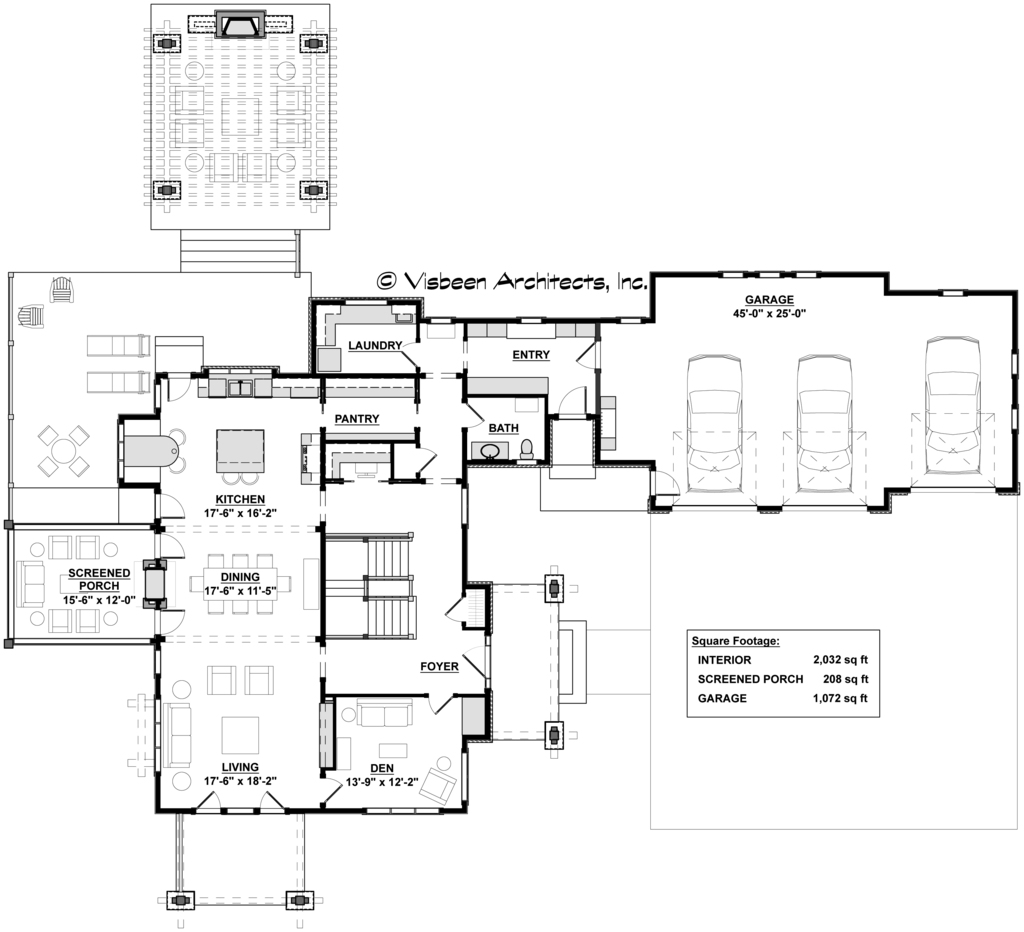dining_table: (175, 555, 299, 622)
door: (459, 640, 501, 687), (153, 484, 195, 523), (644, 462, 685, 501), (149, 529, 189, 561), (156, 604, 192, 636), (439, 594, 473, 627), (398, 337, 433, 369), (575, 336, 610, 368), (415, 440, 442, 480), (560, 387, 597, 416), (456, 397, 484, 435), (424, 690, 460, 717), (255, 790, 288, 819), (315, 772, 343, 804), (195, 788, 226, 814)
kitchen_bar: (208, 411, 284, 490)
large_sink: (518, 436, 543, 469)
large_sofa: (157, 698, 201, 780), (2, 551, 56, 616), (349, 695, 421, 729)
round_table: (36, 410, 104, 487)
small_sink: (475, 436, 513, 462)
small_sofa: (202, 658, 246, 701), (39, 604, 78, 645), (247, 656, 281, 701), (78, 601, 110, 645), (40, 530, 78, 562), (71, 532, 108, 564)
stairs: (317, 527, 433, 648)
twin_sink: (224, 371, 259, 398)
window: (718, 264, 823, 284), (357, 803, 450, 817), (1010, 342, 1018, 452), (936, 282, 972, 301)
